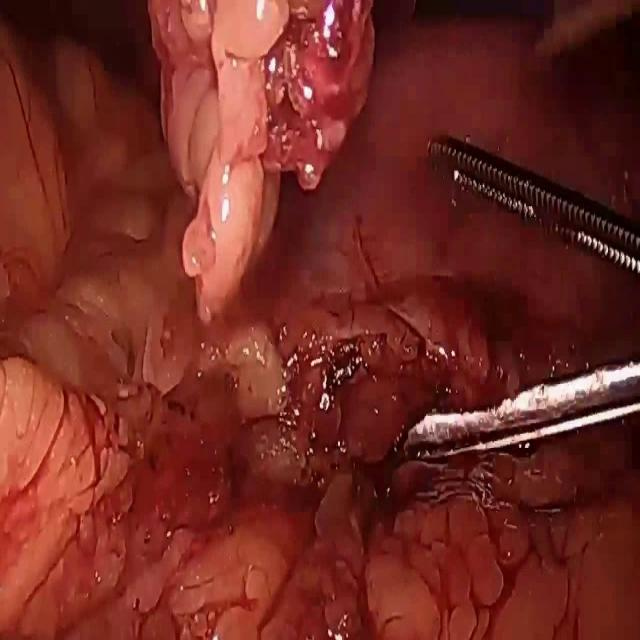surgical-tool: (428, 128, 640, 274), (392, 356, 640, 464)
